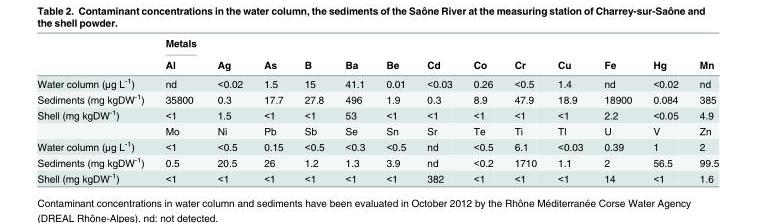table: (36, 36, 718, 183)
table column: (36, 36, 154, 183), (154, 36, 206, 183), (592, 36, 641, 183), (415, 36, 462, 183), (641, 36, 688, 183), (206, 36, 252, 183), (546, 36, 592, 183), (503, 36, 546, 183), (252, 36, 293, 183), (293, 36, 334, 183), (374, 36, 415, 183), (462, 36, 503, 183), (334, 36, 374, 183), (688, 36, 718, 183)
table column header: (36, 36, 718, 73)
table row: (36, 53, 718, 73), (36, 36, 718, 53), (36, 73, 718, 90), (36, 90, 718, 106), (36, 106, 718, 122), (36, 137, 718, 153), (36, 153, 718, 169), (36, 122, 718, 137), (36, 169, 718, 183)
table spanning cell: (36, 106, 154, 137), (154, 36, 206, 73), (592, 36, 641, 73), (415, 36, 462, 73), (641, 36, 688, 73), (206, 36, 252, 73), (546, 36, 592, 73), (503, 36, 546, 73), (252, 36, 293, 73), (293, 36, 334, 73), (374, 36, 415, 73), (462, 36, 503, 73), (334, 36, 374, 73), (688, 36, 718, 73)
